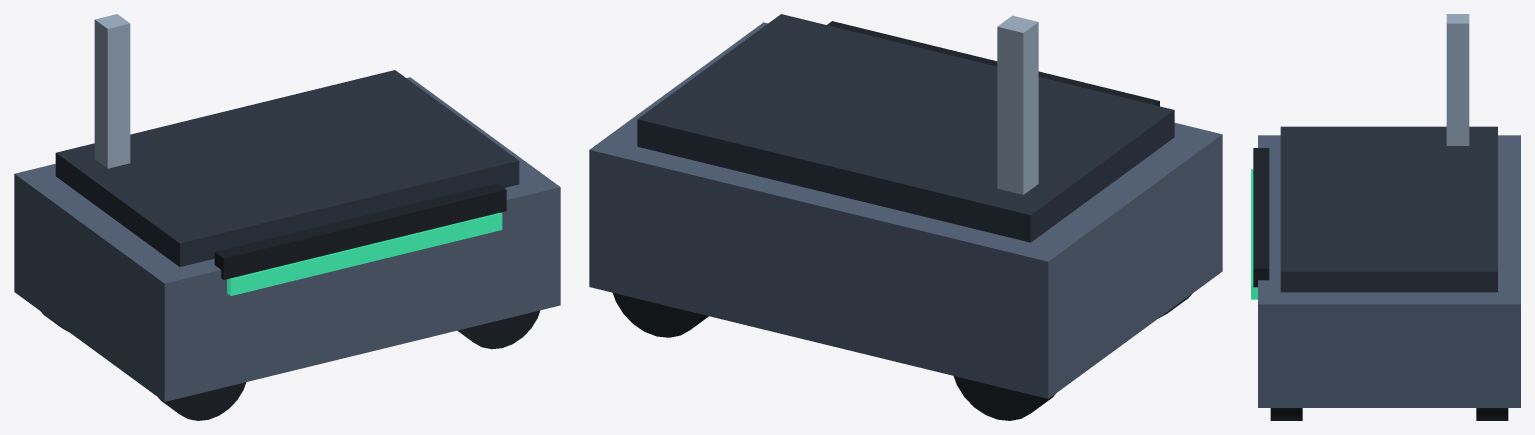
The model's file is agv.glb.
3 renders of one model, left to right at view 1: azimuth 30°, elevation 25°; view 2: azimuth 150°, elevation 25°; view 3: azimuth 270°, elevation 25°, orthographic. The views are drawn at different scales.
Bounding box in the file's own units: 59.5 × 49.3 × 40.12.
